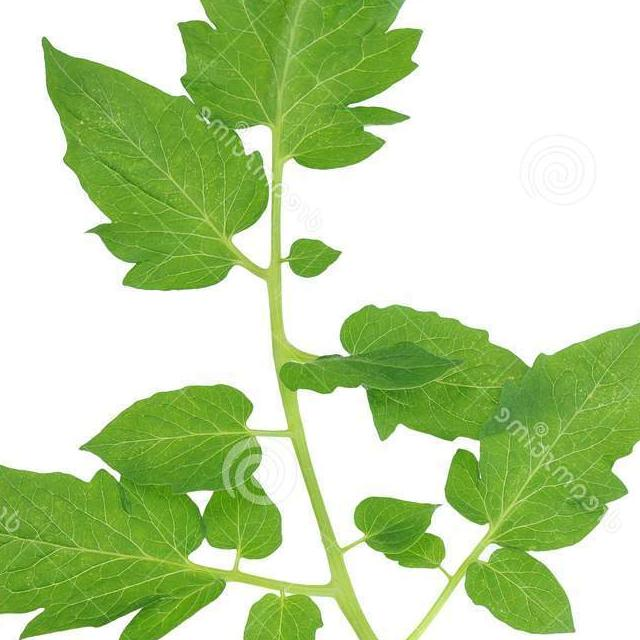Tomato leaf: (4, 25, 292, 340), (185, 0, 511, 182), (447, 286, 640, 570), (319, 263, 528, 457), (0, 470, 228, 640), (47, 370, 285, 521)
